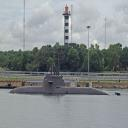submarine: (10, 54, 122, 95)
